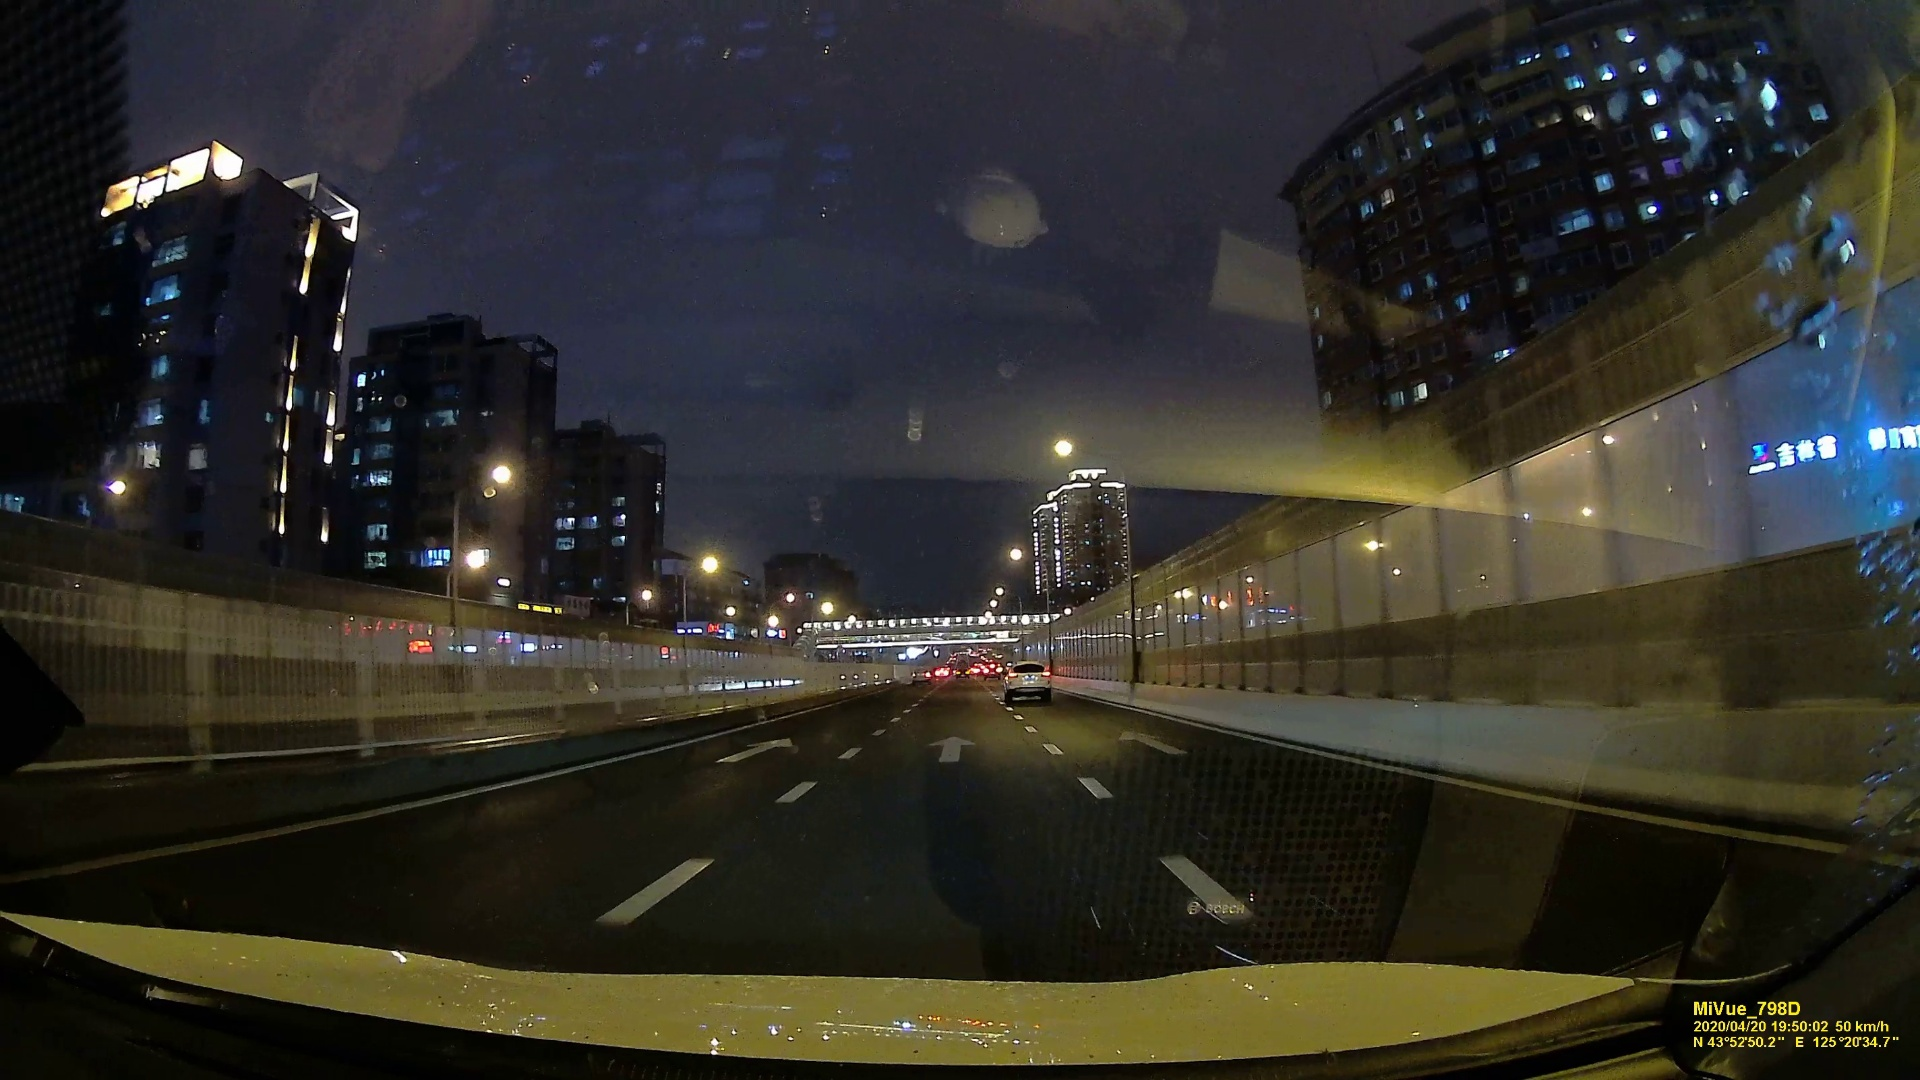traffic_sign: (913, 667, 932, 684)
vehicle: (1001, 661, 1051, 700)
